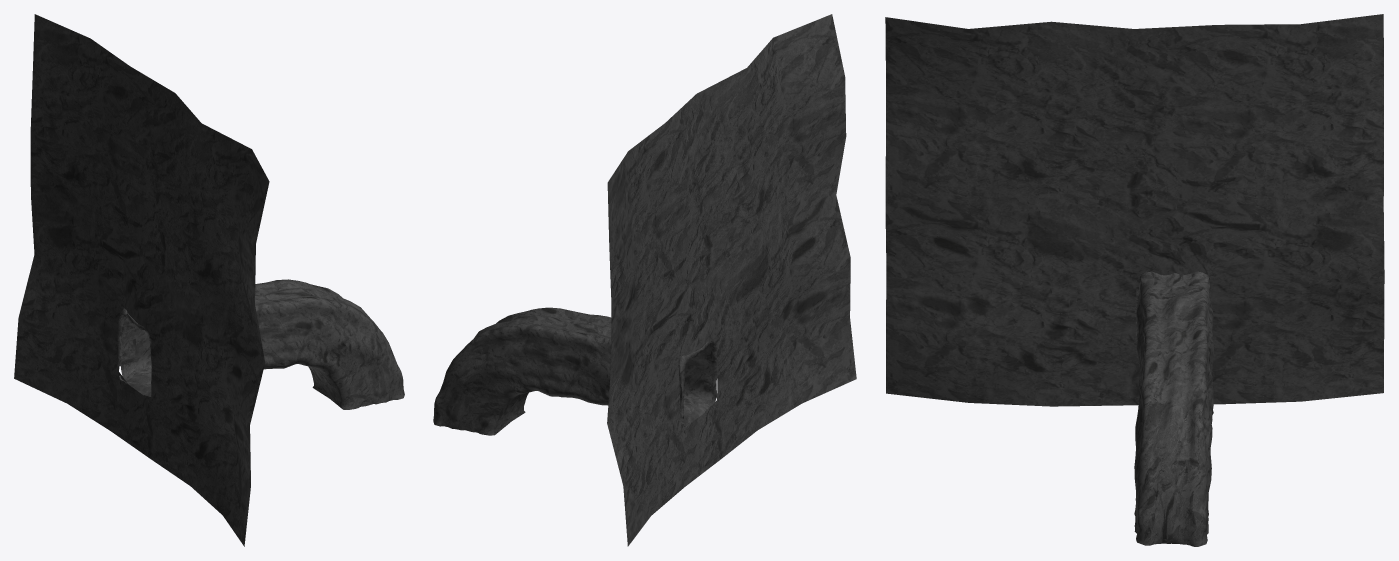
The model's file is WallCaveEntrensLow_003.FBX.
3 renders of one model, left to right at view 1: azimuth 30°, elevation 25°; view 2: azimuth 150°, elevation 25°; view 3: azimuth 270°, elevation 25°, orthographic. The views are drawn at different scales.
Visible parts, largest first — view 1: Plane013; view 2: Plane013; view 3: Plane013.
Boxes of the visible parts, <box> form: Plane013: <box>14,14,404,546</box>; Plane013: <box>433,14,856,546</box>; Plane013: <box>885,14,1384,546</box>.
Bounding box in the file's own units: 1962 × 2437 × 2788.
